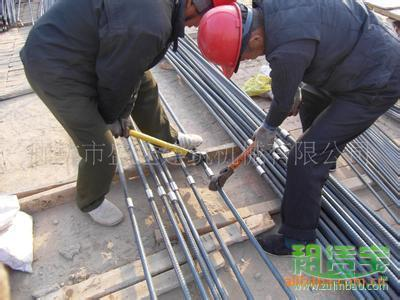helmet: (199, 6, 268, 78), (182, 1, 248, 25)
